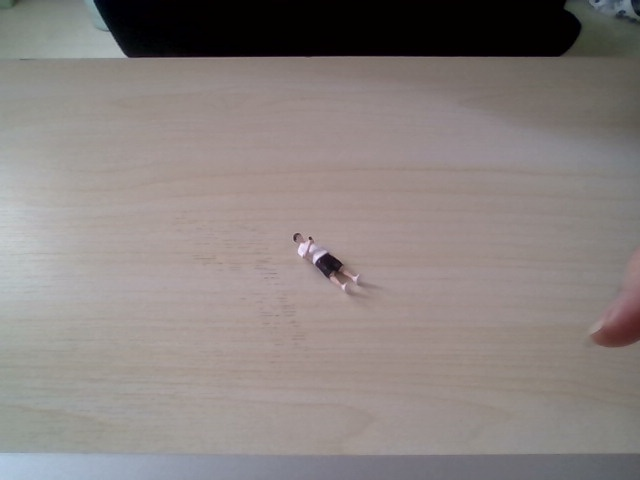fall: (281, 225, 367, 297)
